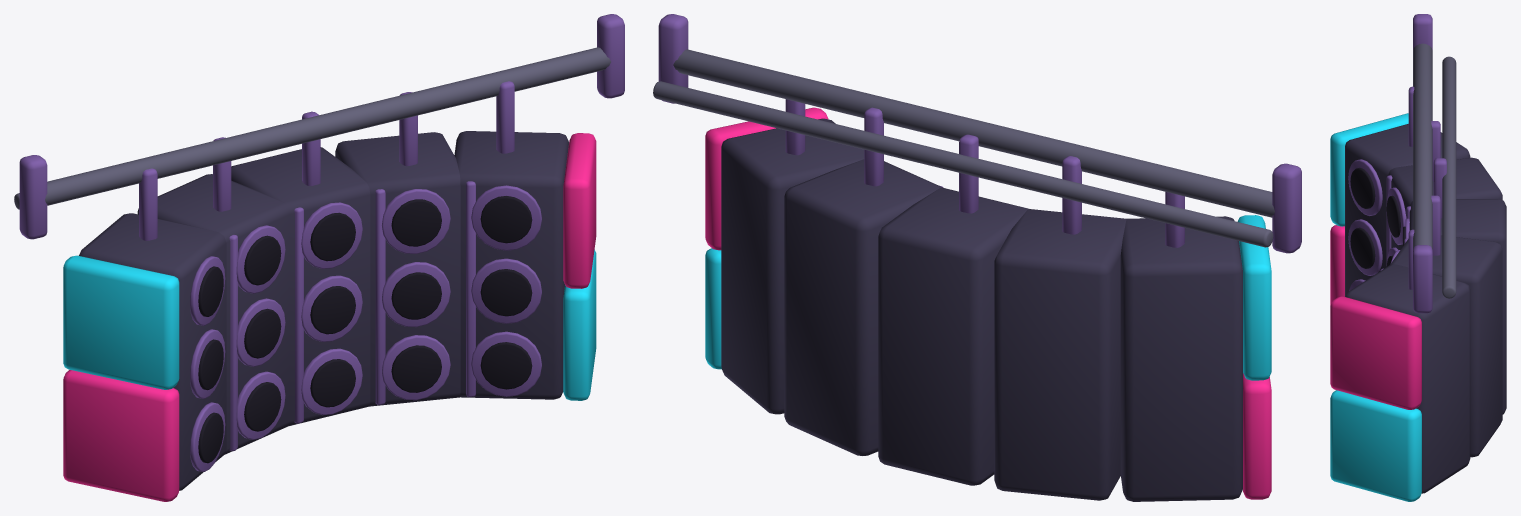
File: Speaker_T4.fbx
3 views of the same model, side by side, from view 1: azimuth 30°, elevation 25°; view 2: azimuth 150°, elevation 25°; view 3: azimuth 270°, elevation 25° (orthographic). The views are drawn at different scales.
Parts seen in each view (by area): view 1: Body, Purple, Cone, Neon_Magenta, Neon_Cyan, Metal; view 2: Body, Metal, Purple, Neon_Magenta, Neon_Cyan; view 3: Body, Neon_Cyan, Neon_Magenta, Metal, Purple, Cone.
Part boxes in pixels (box(x1,y1,x2,y2)): Body: box(79, 131, 569, 490); Purple: box(19, 14, 624, 471); Cone: box(198, 196, 532, 463); Neon_Magenta: box(63, 133, 596, 501); Neon_Cyan: box(63, 250, 596, 400); Metal: box(14, 47, 610, 209); Body: box(721, 118, 1242, 501); Metal: box(653, 49, 1274, 247); Purple: box(658, 14, 1301, 253); Neon_Magenta: box(705, 107, 1271, 499); Neon_Cyan: box(705, 215, 1271, 380); Body: box(1345, 124, 1506, 493); Neon_Cyan: box(1330, 113, 1421, 501); Neon_Magenta: box(1330, 225, 1421, 409); Metal: box(1413, 43, 1456, 298); Purple: box(1348, 14, 1446, 313); Cone: box(1350, 167, 1405, 268).
Bounding box in the file's own units: 17.99 × 9.38 × 5.59.
